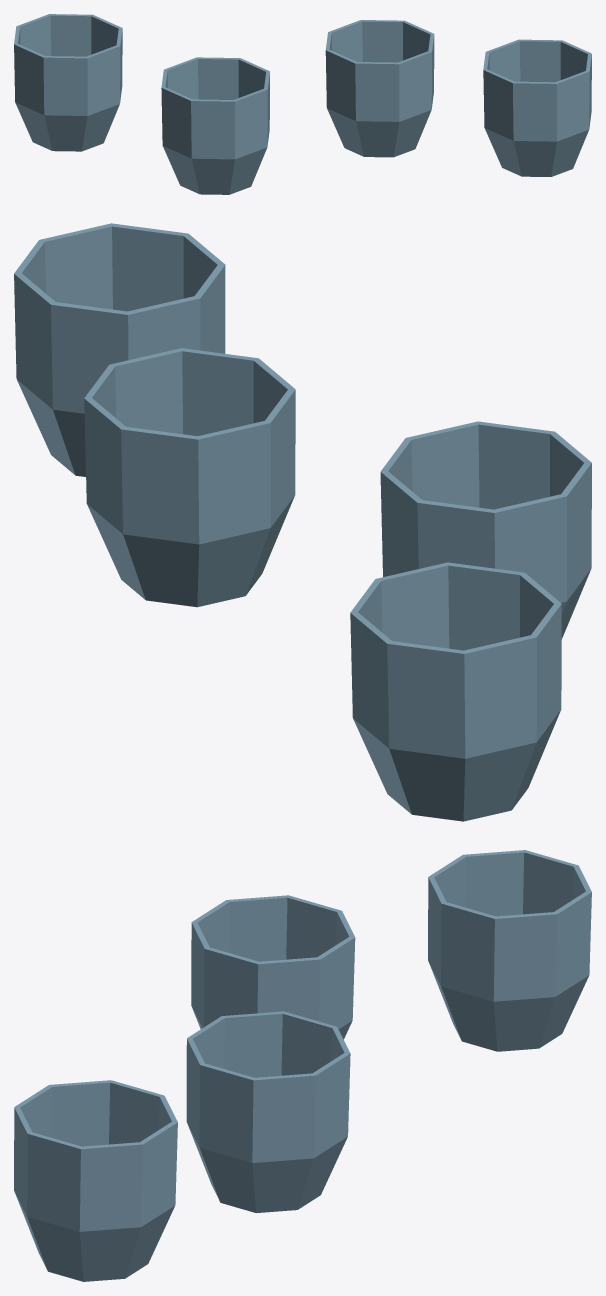
Rendered from Glasses_1.fbx.
The picture shows the model from 3 angles, top to bottom: view 1: azimuth 30°, elevation 25°; view 2: azimuth 150°, elevation 25°; view 3: azimuth 270°, elevation 25°; orthographic projection. The views are drawn at different scales.
Visible parts, largest first — view 1: Glasses_1; view 2: Glasses_1; view 3: Glasses_1.
Boxes of the visible parts, x1,y1,x2,y2 form: Glasses_1: [14, 14, 591, 194]; Glasses_1: [14, 223, 591, 821]; Glasses_1: [14, 850, 591, 1281].
Size of the model in its own units: 41.85 by 34.19 by 9.69.
